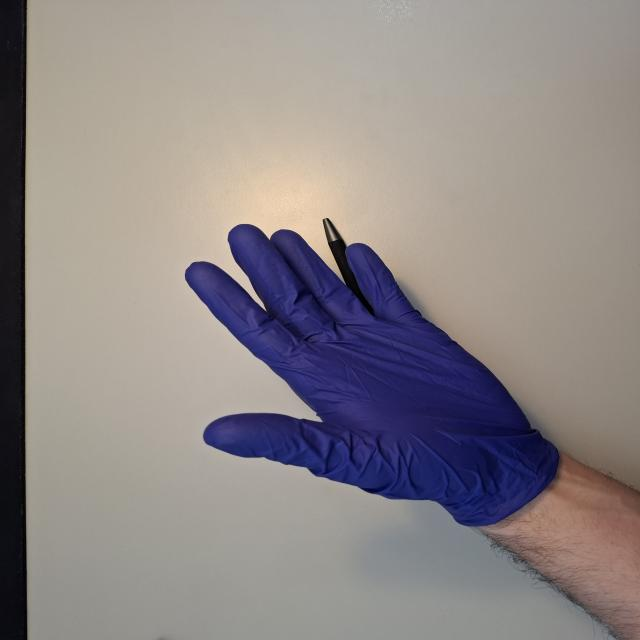glove_on: (182, 222, 553, 524)
